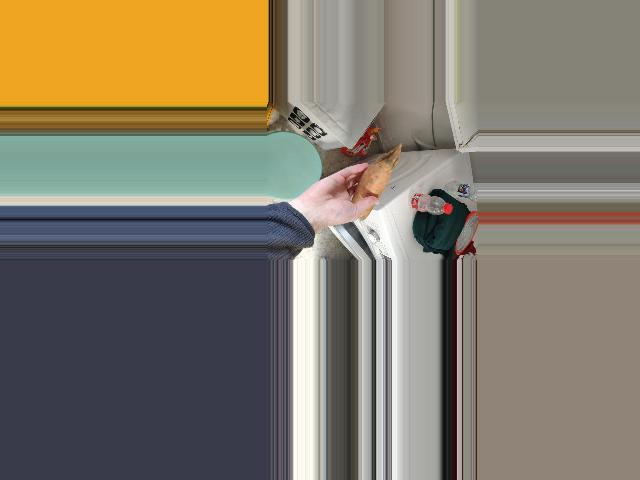sweet_potato: (349, 165, 389, 212)
